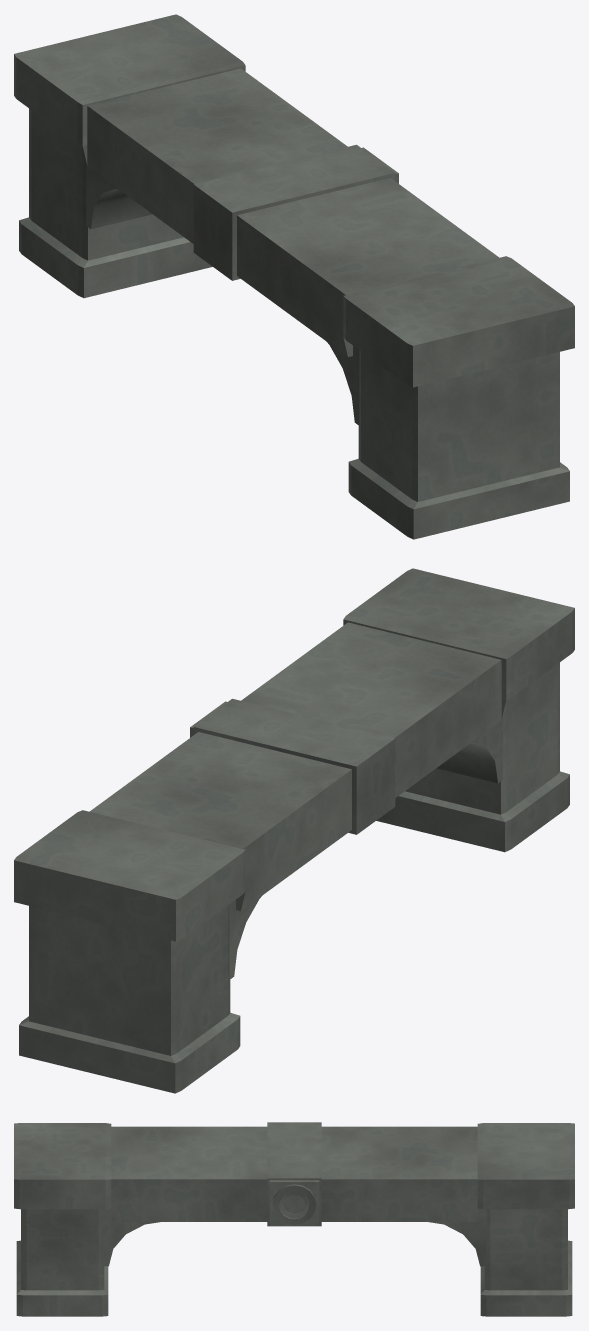
Rendered from NarrowConnecter.fbx.
3 renders of one model, top to bottom at view 1: azimuth 30°, elevation 25°; view 2: azimuth 150°, elevation 25°; view 3: azimuth 270°, elevation 25°, orthographic. The views are drawn at different scales.
Parts seen in each view (by area): view 1: NarrowConnecter.001; view 2: NarrowConnecter.001; view 3: NarrowConnecter.001.
Boxes of the visible parts, x1=… form: NarrowConnecter.001: x1=14, y1=14, x2=574, y2=539; NarrowConnecter.001: x1=14, y1=568, x2=574, y2=1093; NarrowConnecter.001: x1=14, y1=1122, x2=574, y2=1316.
Size of the model in its own units: 2.47 by 2.7 by 9.9.
1 material, 1 textured.
